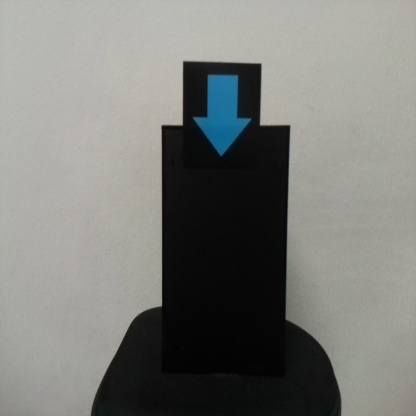id_2: (183, 62, 262, 168)
